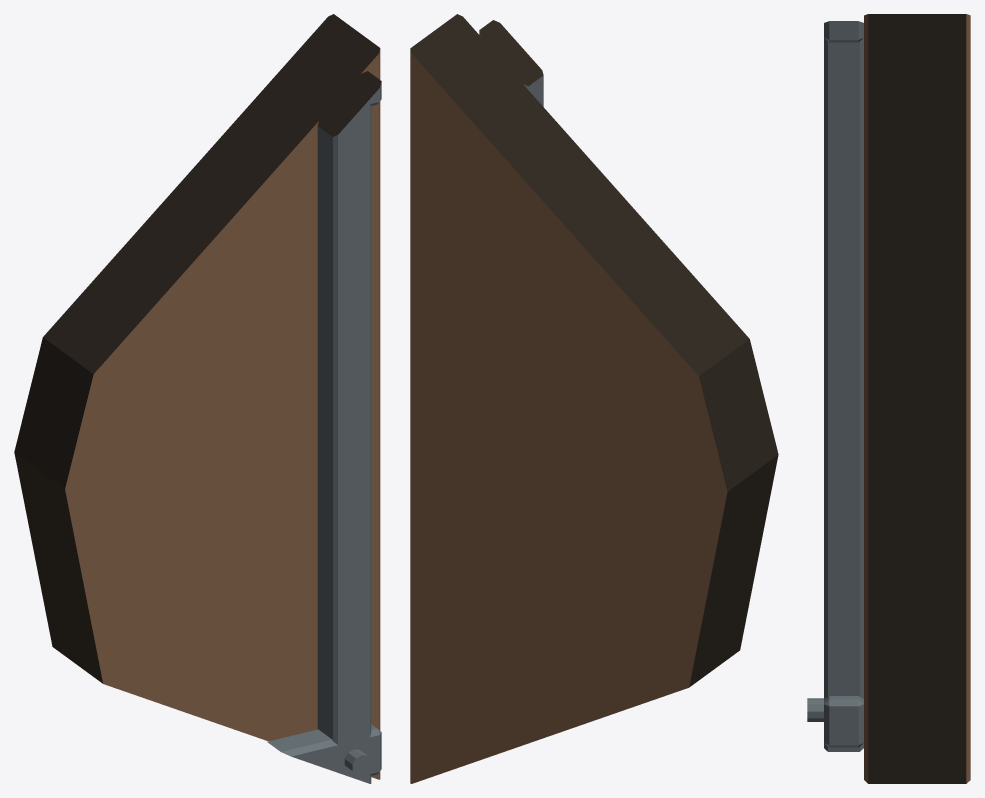
The model's file is SM_DoorShard_02_54.fbx.
The picture shows the model from 3 angles, left to right: view 1: azimuth 30°, elevation 25°; view 2: azimuth 150°, elevation 25°; view 3: azimuth 270°, elevation 25°; orthographic projection. The views are drawn at different scales.
Parts seen in each view (by area): view 1: SM_DoorShard_02_54; view 2: SM_DoorShard_02_54; view 3: SM_DoorShard_02_54.
Part boxes in pixels (x1,y1,x2,y2): SM_DoorShard_02_54: [14, 14, 381, 783]; SM_DoorShard_02_54: [410, 14, 778, 783]; SM_DoorShard_02_54: [807, 14, 970, 783].
Size of the model in its own units: 57.81 by 24.5 by 127.
